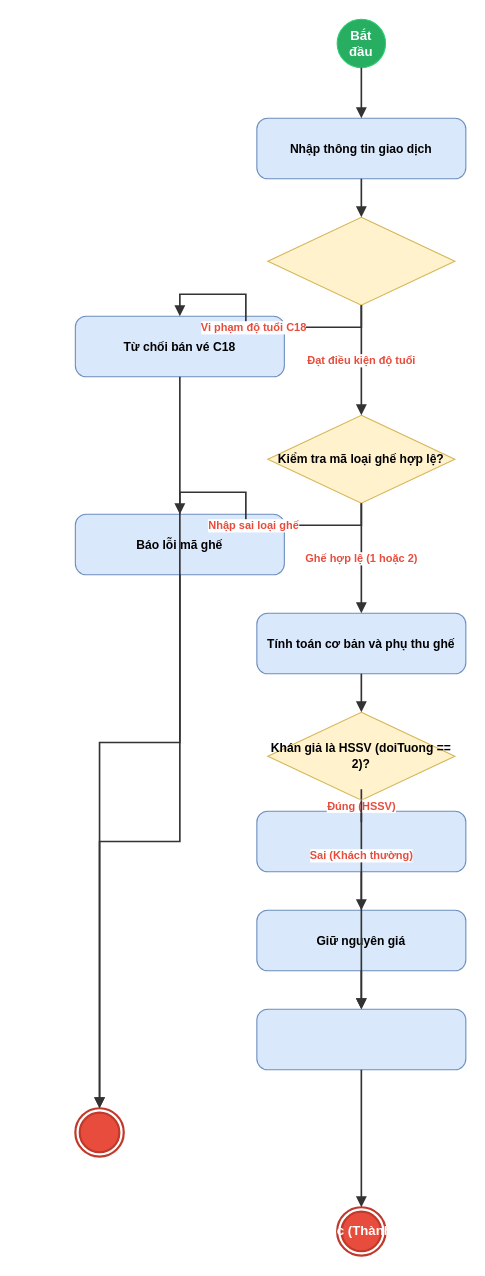
Some shapes in this 485 by 1276 pixel diagram are drawn without their labels. Here are the shapes that lost their labels. From the top down, the centre of each, then its label:
At point 361,260: "Kiểm tra phim C18 và tuổi < 18?".
At point 361,841: "Áp dụng giảm giá 20%".
At point 361,1039: "In hóa đơn chi tiết & Tổng tiền".
At point 99,1132: "Kết thúc (Dừng giao dịch)".
